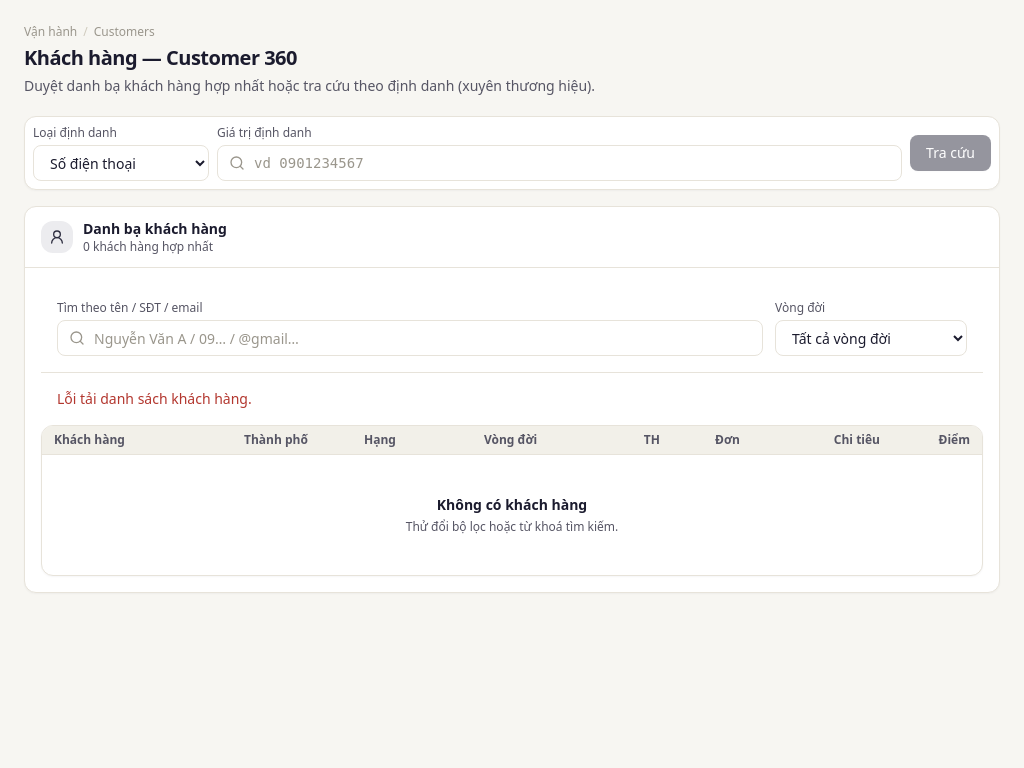
Test: CustomersScreen (Customer 360 lookup) › hiển thị gợi ý cross-sell khi có
In the field named "giá trị": (560, 163) [217,145,902,181], type "0901112223"
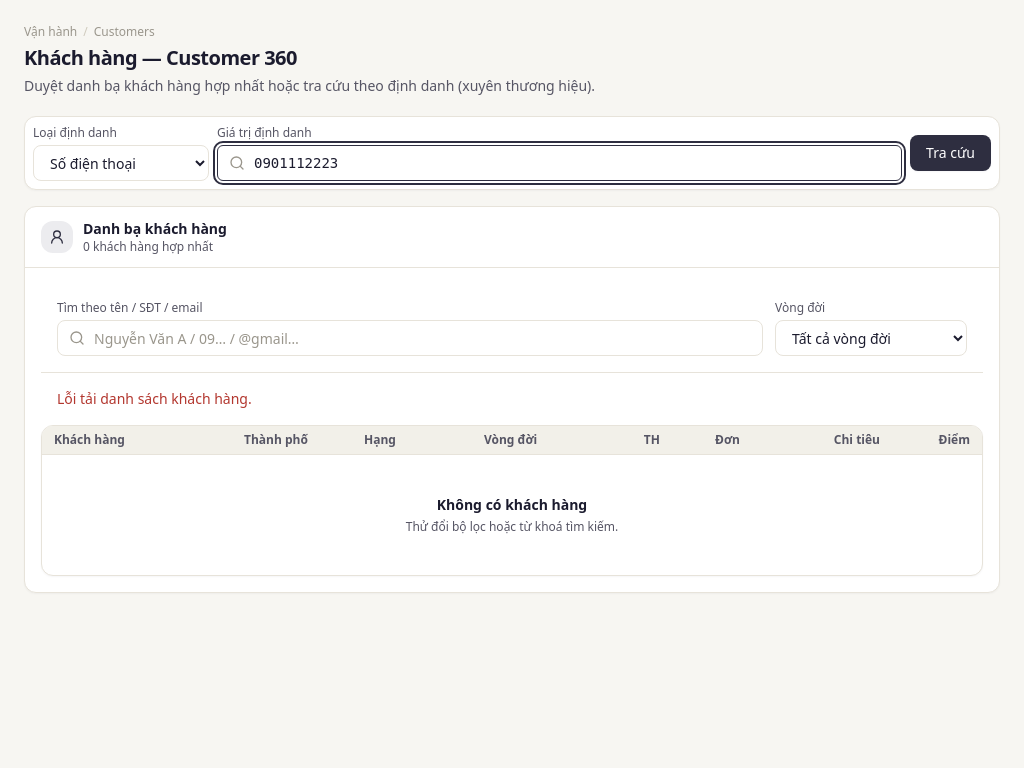
Click the button "Tra cứu": (951, 152) [910,134,991,170]
(page scrolled)
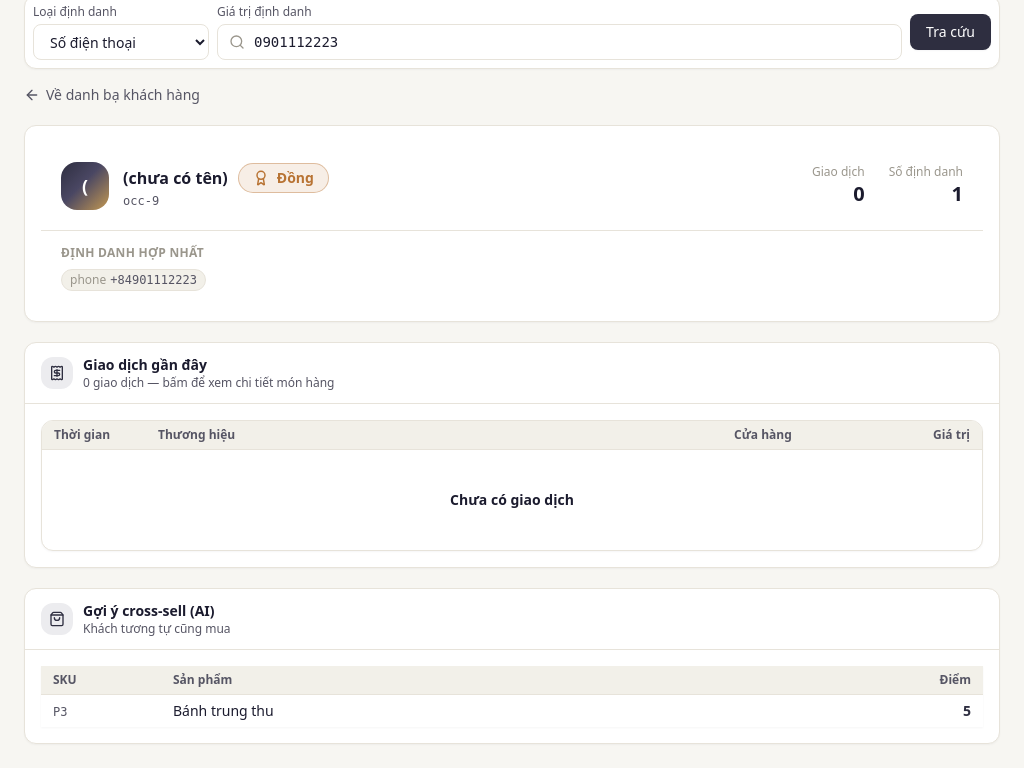
Check: the text "Bánh trung thu" is shown, box [161,694,883,727]
